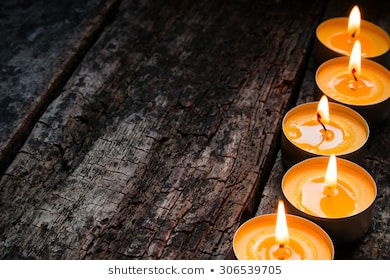Fire: (271, 198, 291, 245), (320, 149, 341, 192), (345, 3, 363, 39), (314, 94, 331, 124), (348, 39, 361, 78)
